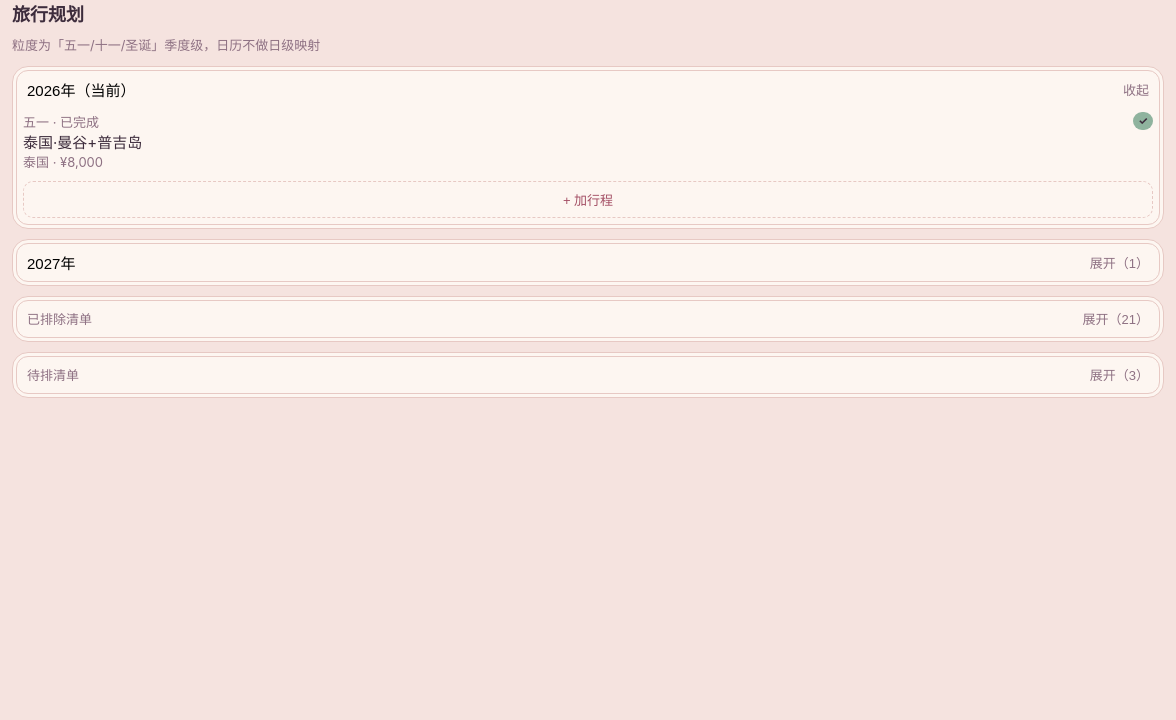
Scenario: TravelPlanView › 编辑态把年份改到已有行程的年份 → 显示⚠️同年已有N程（不自动重排）
Click the text "泰国·曼谷+普吉岛" at {"x": 83, "y": 142}, box [23,132,142,152]
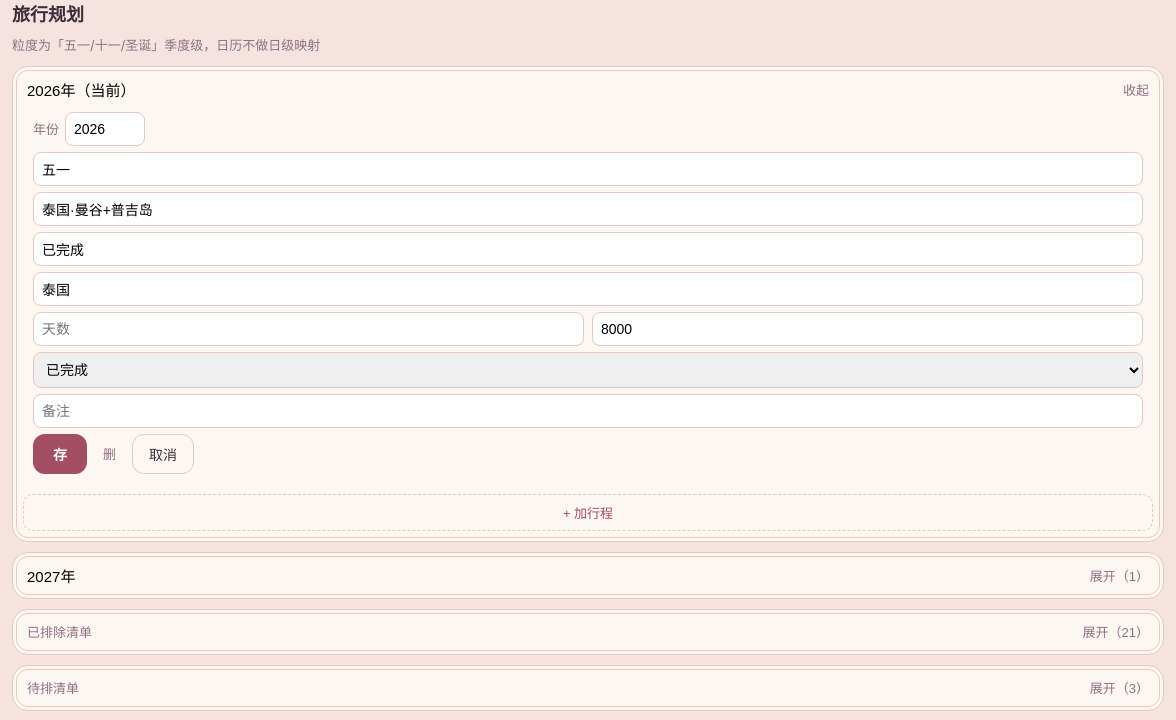
Replace the text in the number field labelled "年份" with "2027" at {"x": 105, "y": 128}, box [65,112,145,146]
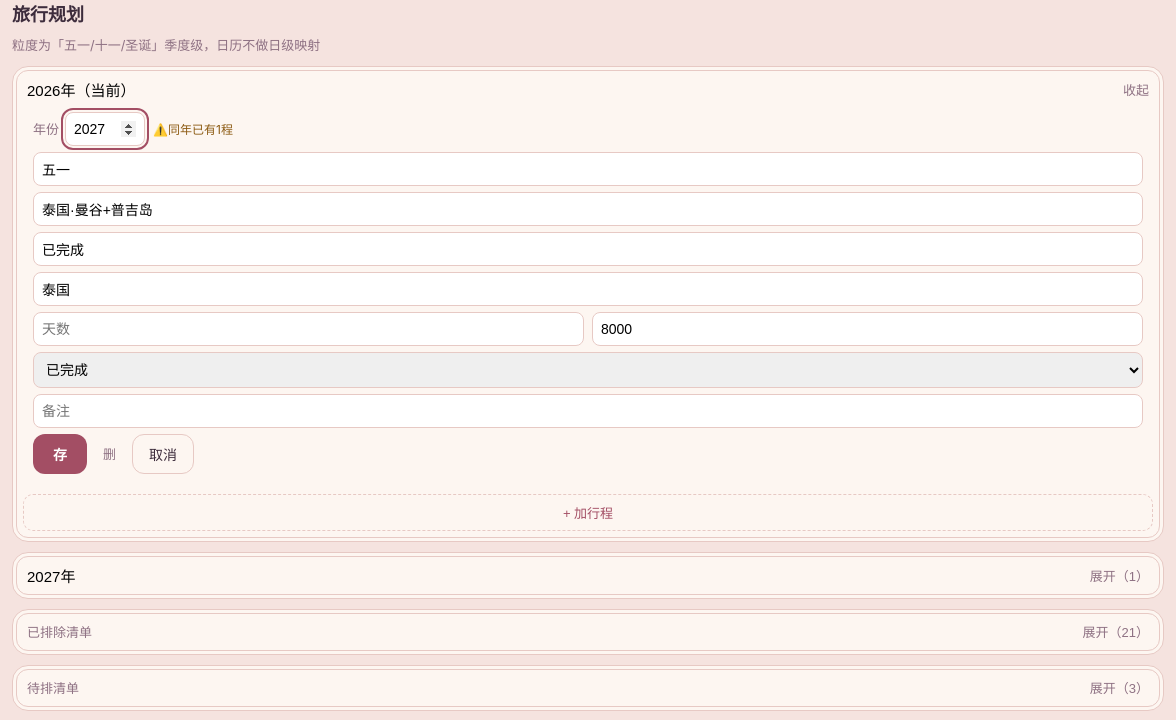
Now the text "⚠️同年已有1程" is shown, box [153,120,233,137]
